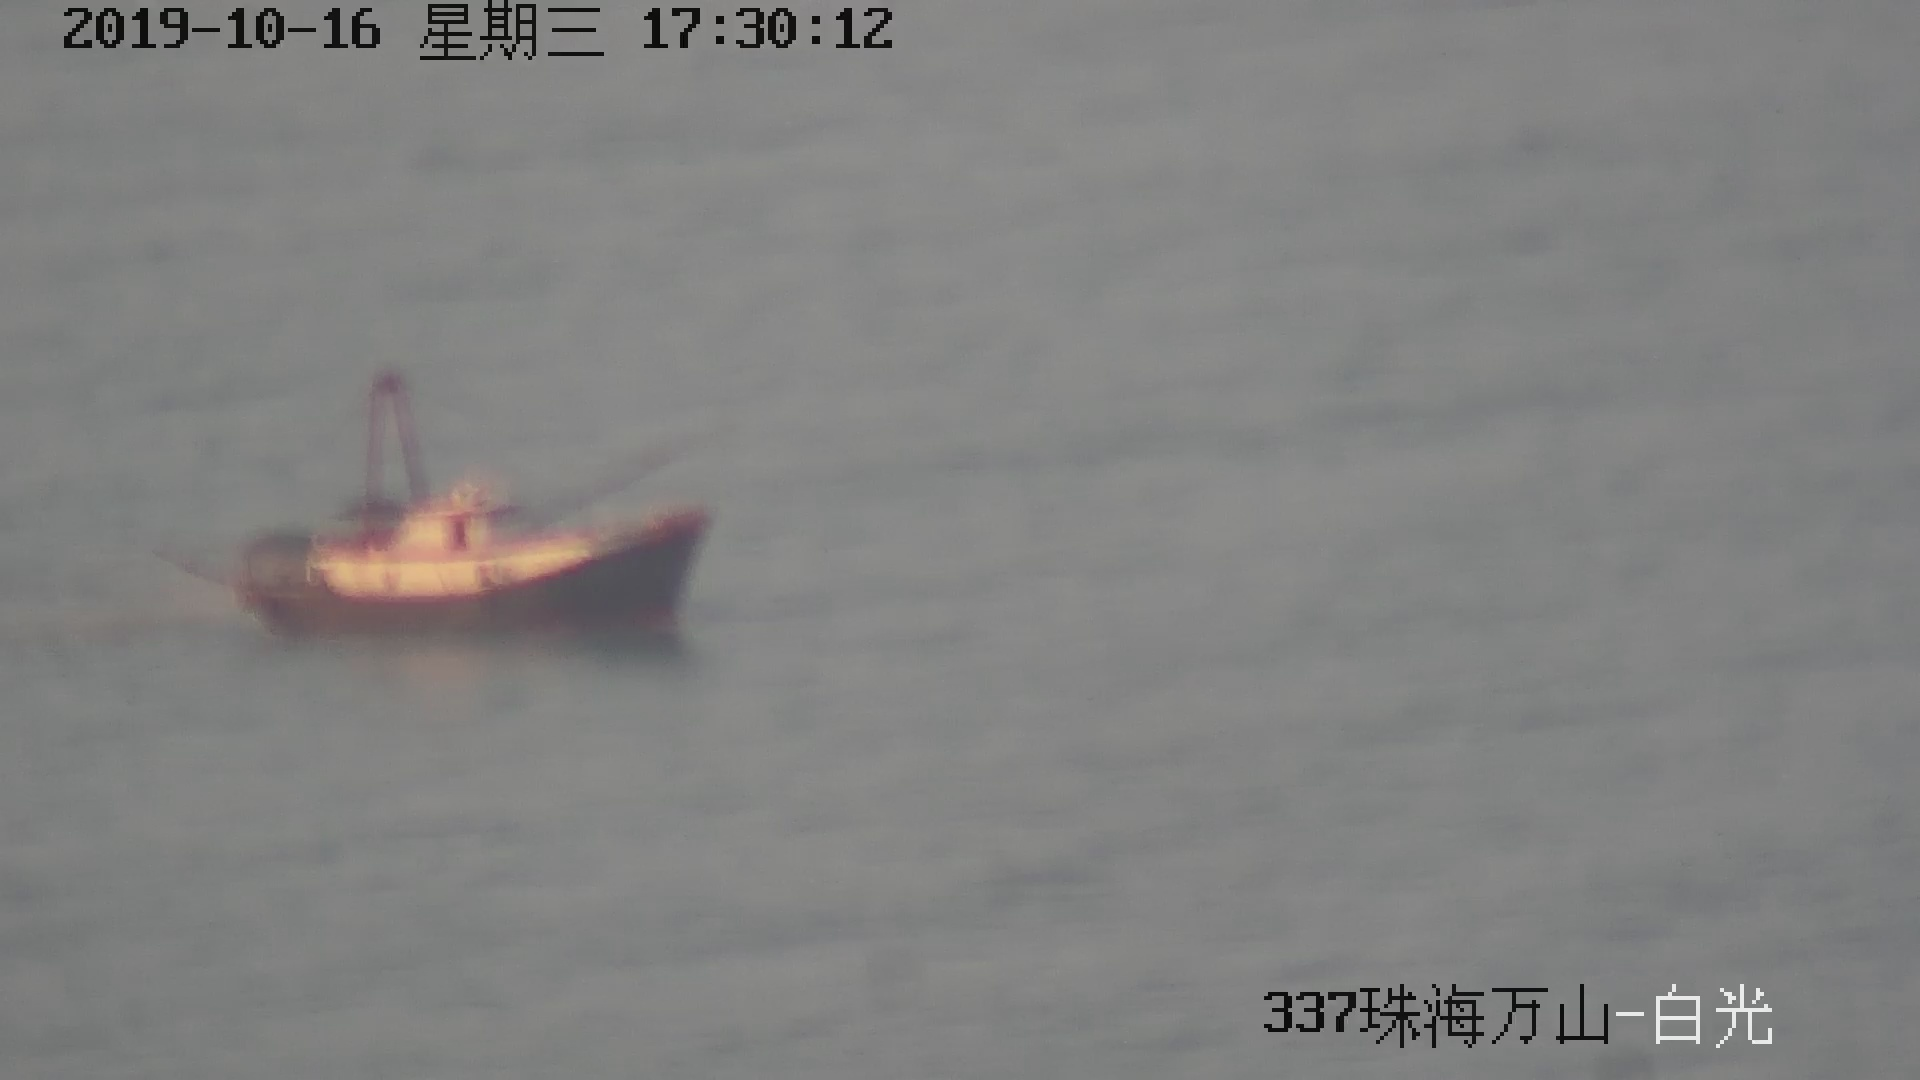ship: (182, 365, 732, 632)
